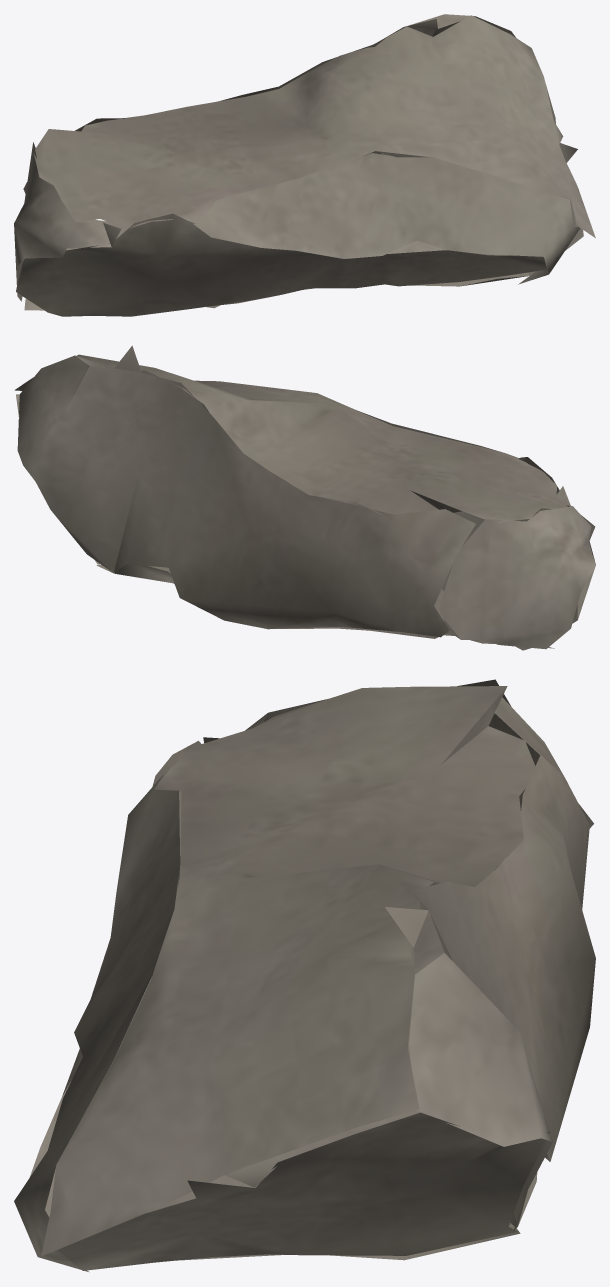
Rendered from rock_a_lo.glb.
3 views of the same model, one above another, from view 1: azimuth 30°, elevation 25°; view 2: azimuth 150°, elevation 25°; view 3: azimuth 270°, elevation 25° (orthographic). The views are drawn at different scales.
Parts seen in each view (by area): view 1: rock_a_lo; view 2: rock_a_lo; view 3: rock_a_lo.
Boxes of the visible parts, x1,y1,x2,y2 form: rock_a_lo: (14,14,595,316); rock_a_lo: (14,345,595,650); rock_a_lo: (14,679,595,1272).
Size of the model in its own units: 1.94 by 0.7175 by 1.02.
1 material, 1 textured.
